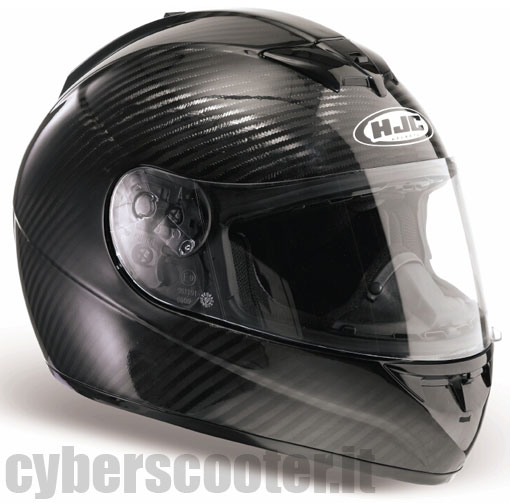helmet: (27, 23, 501, 459)
